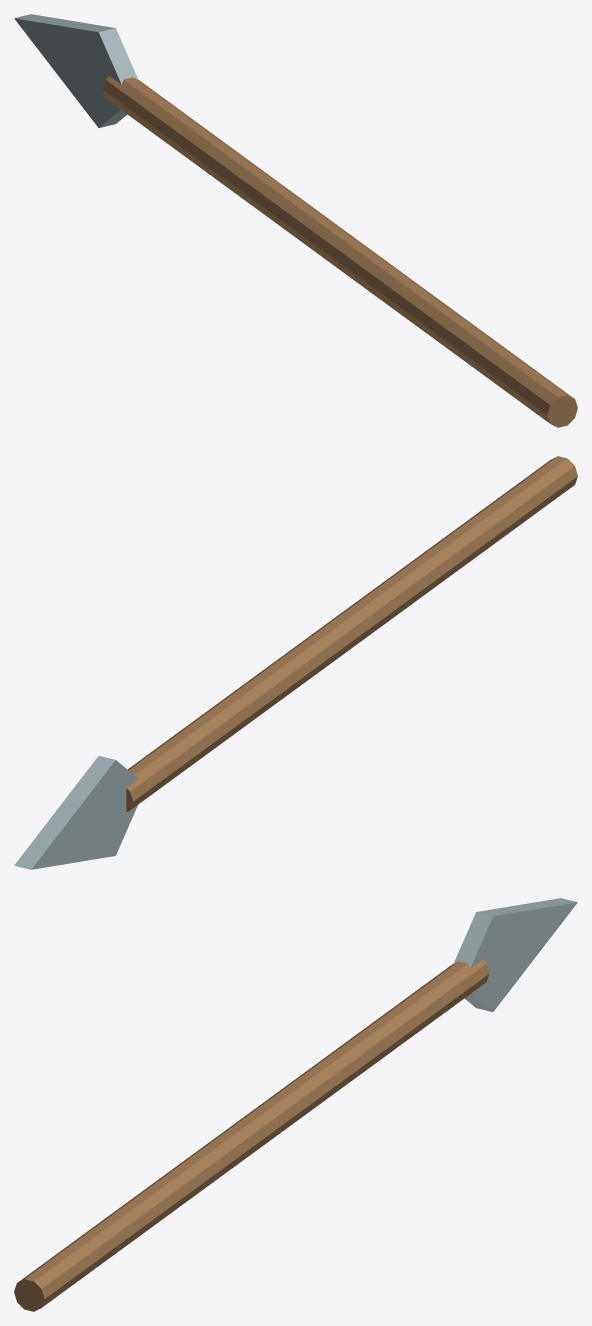
The model's file is Prop_Spear.fbx.
3 views of the same model, one above another, from view 1: azimuth 30°, elevation 25°; view 2: azimuth 150°, elevation 25°; view 3: azimuth 330°, elevation 25° (orthographic).
Parts seen in each view (by area): view 1: Prop_Spear; view 2: Prop_Spear; view 3: Prop_Spear.
Part boxes in pixels (<box>): Prop_Spear: <box>14,14,577,427</box>; Prop_Spear: <box>14,456,577,869</box>; Prop_Spear: <box>14,898,577,1311</box>.
Size of the model in its own units: 0.05 by 0.15 by 1.53.
